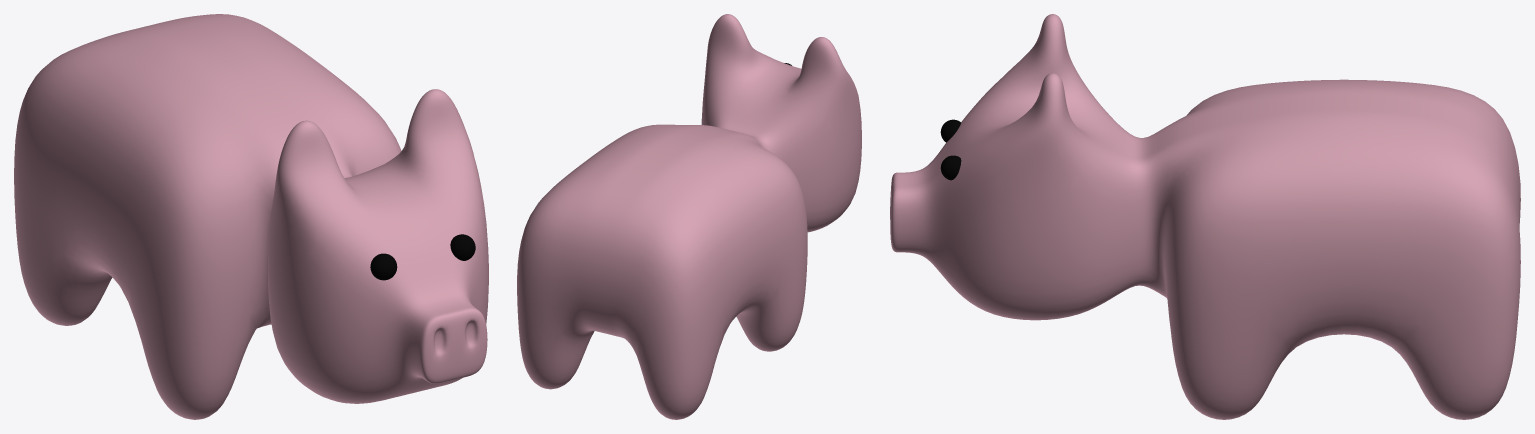
The model's file is pig.fbx.
The picture shows the model from 3 angles, left to right: view 1: azimuth 30°, elevation 25°; view 2: azimuth 150°, elevation 25°; view 3: azimuth 270°, elevation 25°; orthographic projection. The views are drawn at different scales.
Parts seen in each view (by area): view 1: Pig; view 2: Pig; view 3: Pig.
Part boxes in pixels (x1=…): Pig: x1=14, y1=14, x2=488, y2=419; Pig: x1=517, y1=14, x2=861, y2=419; Pig: x1=890, y1=14, x2=1520, y2=419.
Bounding box in the file's own units: 39.29 × 52.55 × 90.1.
